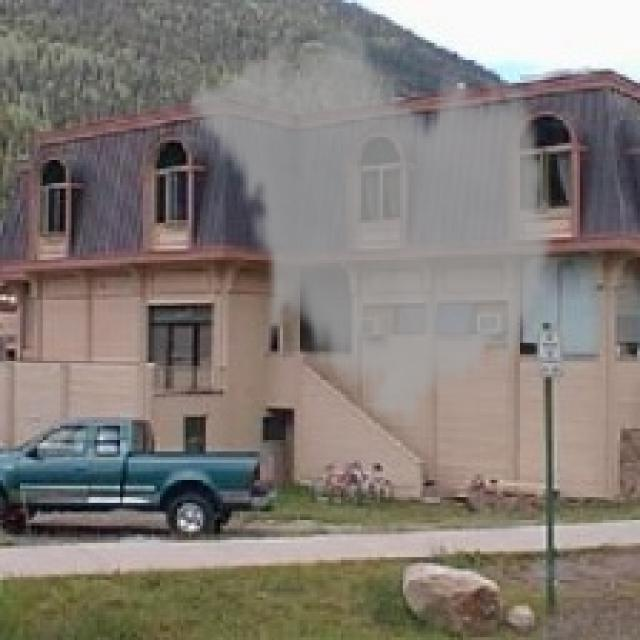Smoke: (185, 14, 558, 434)
